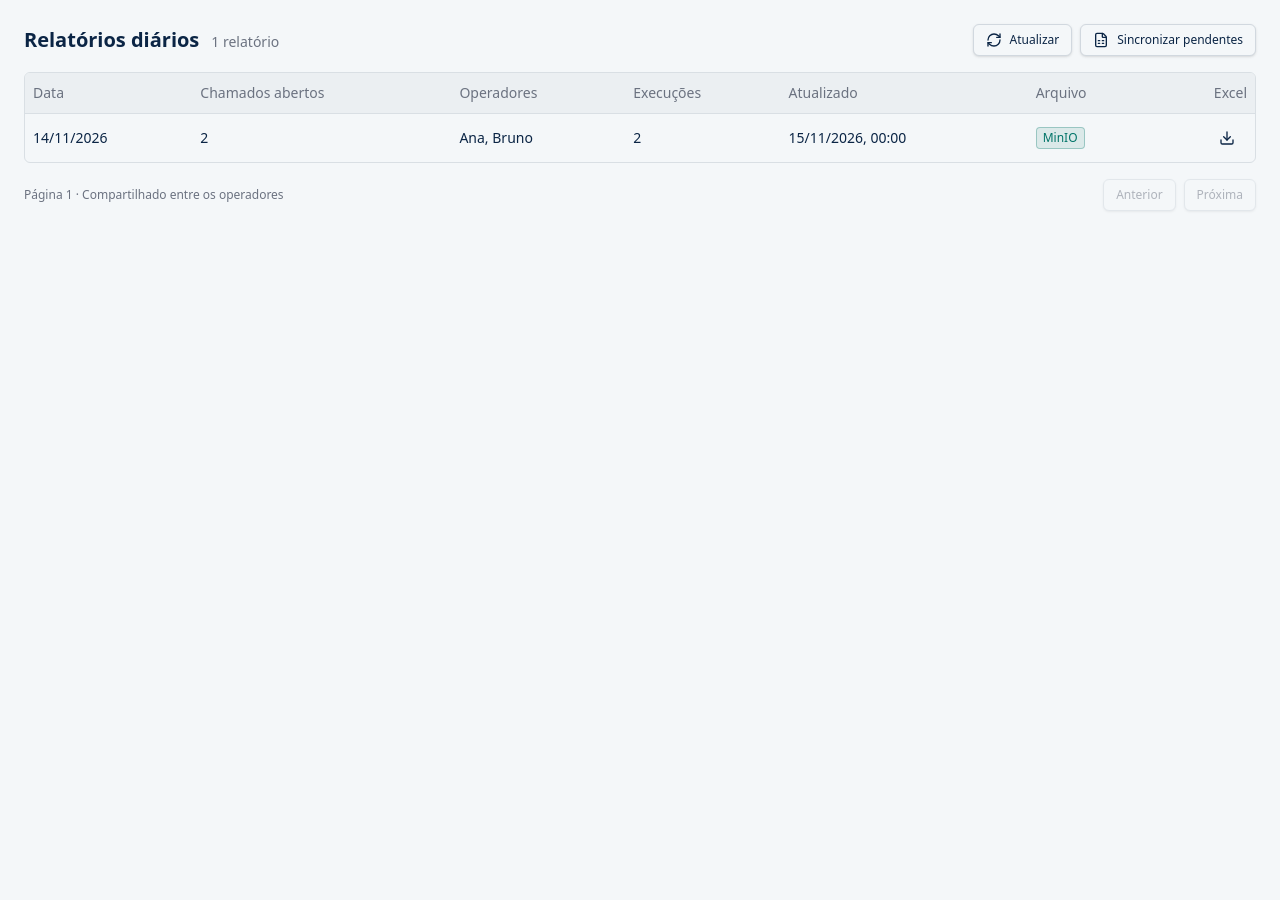
Scenario: Daily execution reports › opens a side panel with all confirmed tickets and their operators
Click the text "14/11/2026". click: click(109, 137)
box: [25,113,192,162]
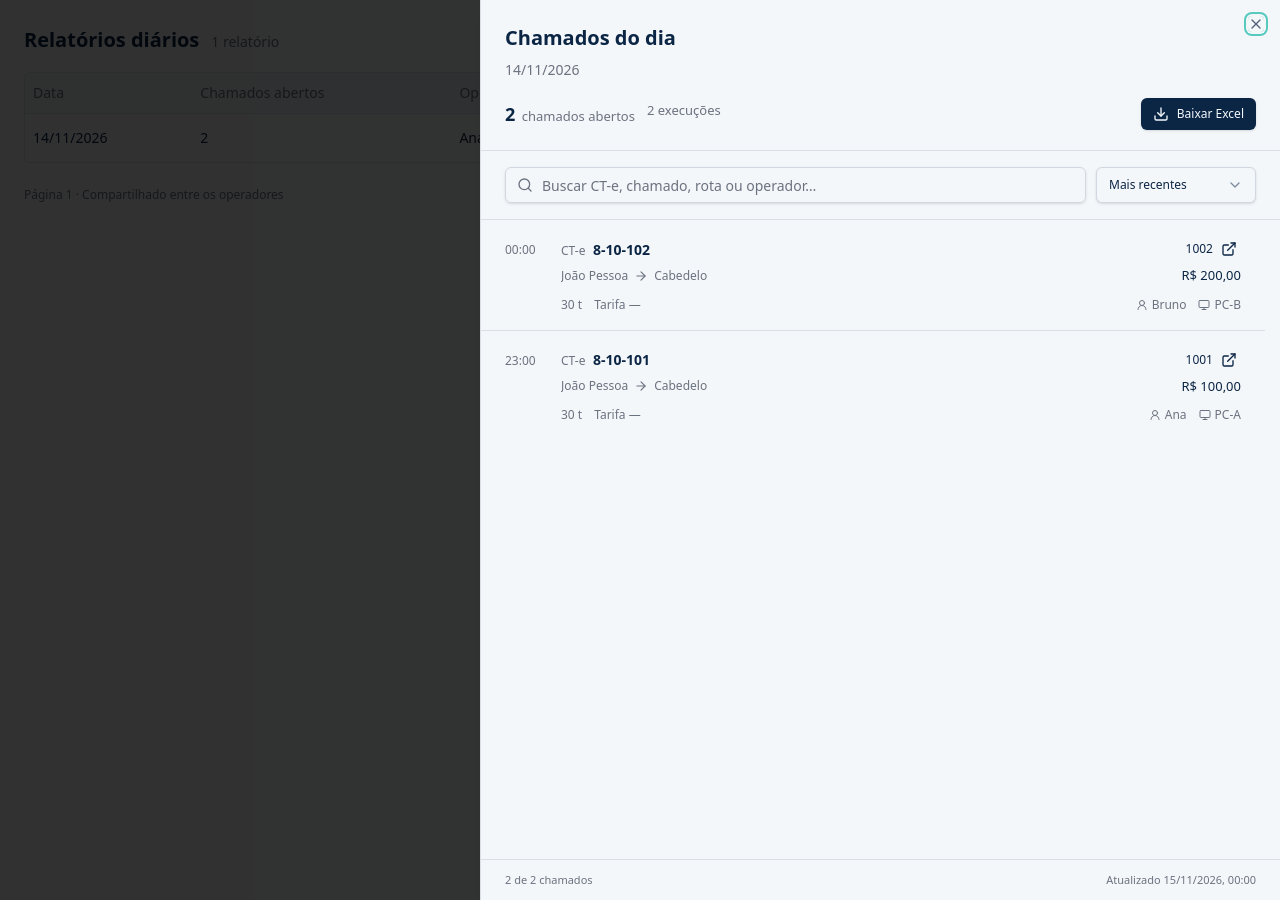
Check: the heading "Chamados do dia" is shown, box [505,24,676,51]
Check: the heading "CT-e 8-10-101" is shown, box [561,349,650,370]
Check: the heading "CT-e 8-10-102" is shown, box [561,238,650,260]
